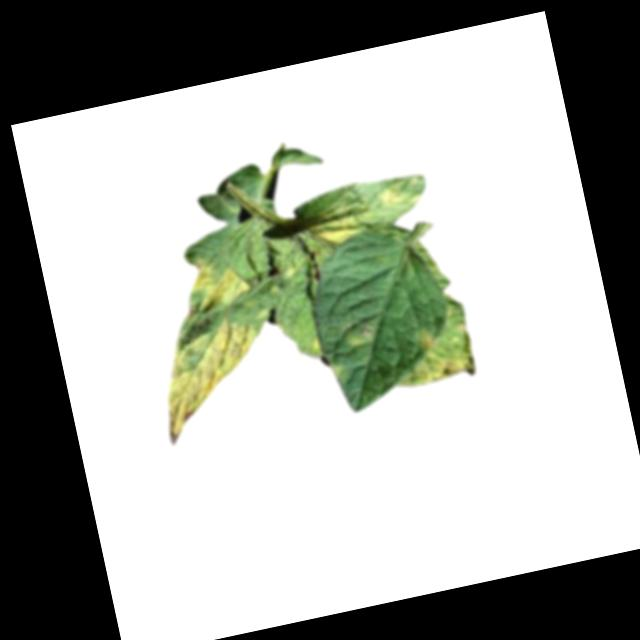Leaf_Mold: (145, 311, 276, 445), (181, 249, 254, 313), (400, 342, 479, 392), (308, 200, 364, 250), (373, 172, 429, 214), (416, 329, 435, 352)
